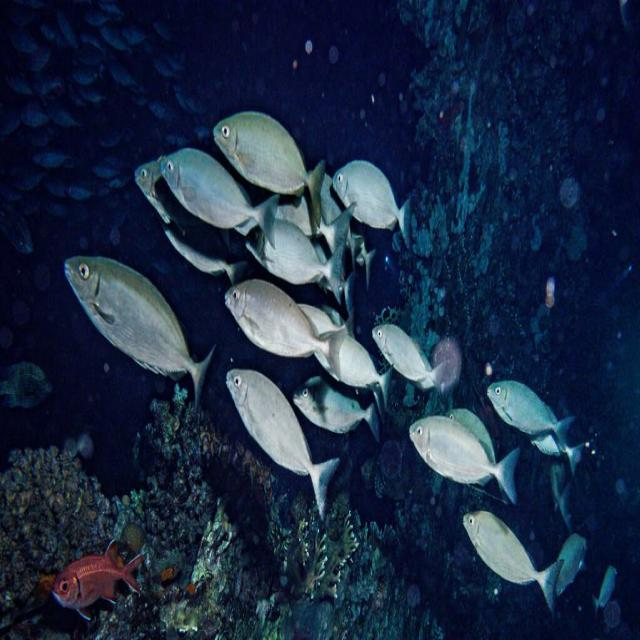Sokar Baligi: (51, 234, 222, 446), (456, 498, 567, 621)
